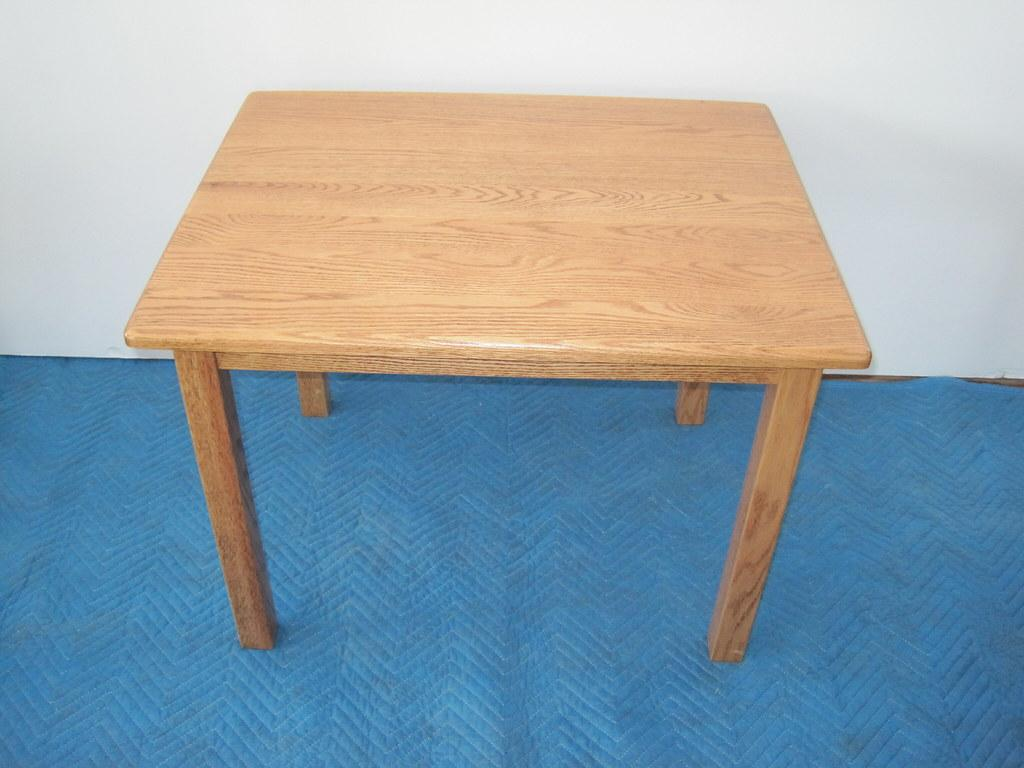table: (123, 89, 873, 663)
